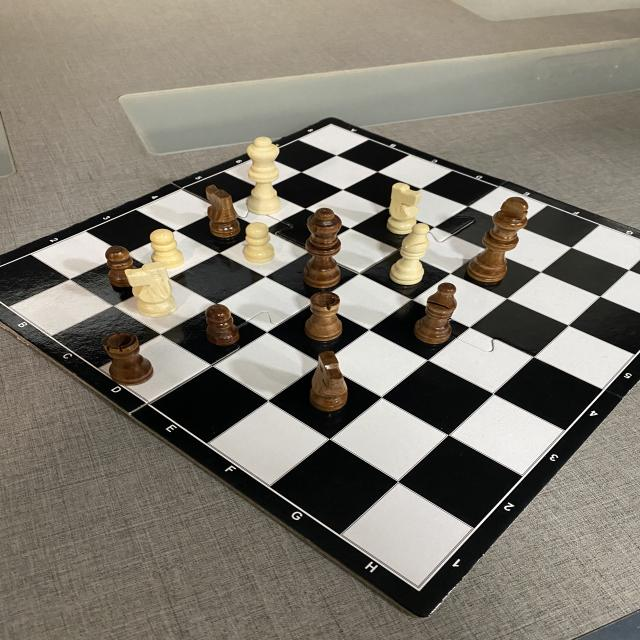Black-Bishop: (415, 281, 458, 344)
Black-King: (467, 197, 528, 283)
Black-Knight: (308, 353, 351, 412), (205, 185, 238, 237)
Black-Pawn: (104, 242, 139, 286), (203, 307, 240, 347)
Black-Queen: (304, 207, 341, 290)
Black-Rook: (107, 333, 151, 385), (307, 291, 343, 342)
White-Bishop: (388, 222, 430, 288)
White-Knight: (126, 262, 177, 318), (385, 182, 420, 234)
White-Pawn: (150, 229, 183, 269), (243, 222, 274, 263)
White-Queen: (246, 137, 283, 215)
